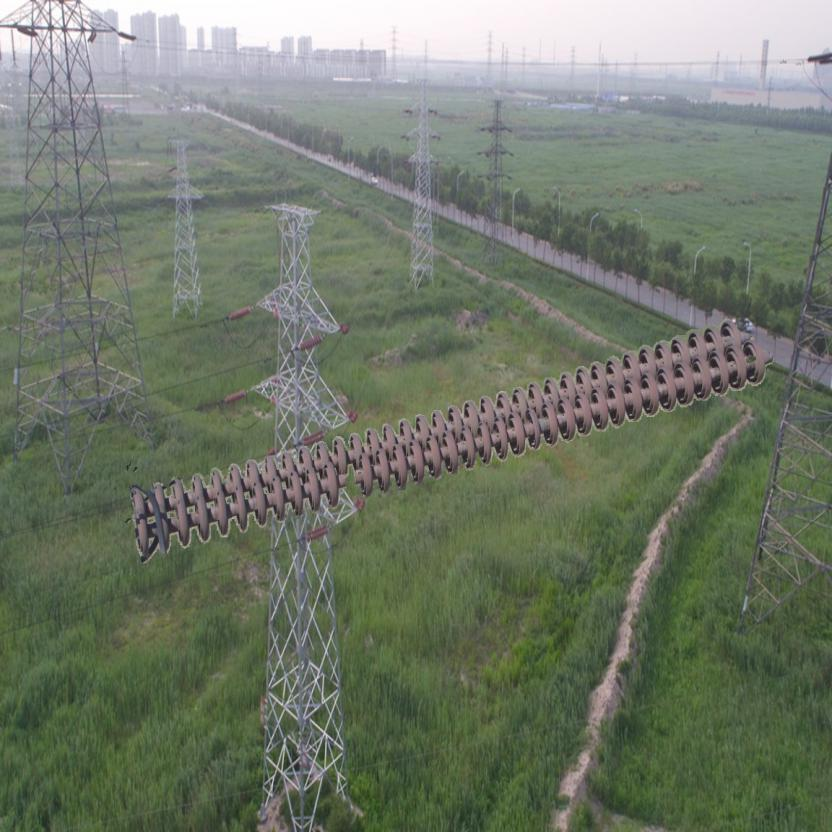defect: (319, 452, 379, 506)
